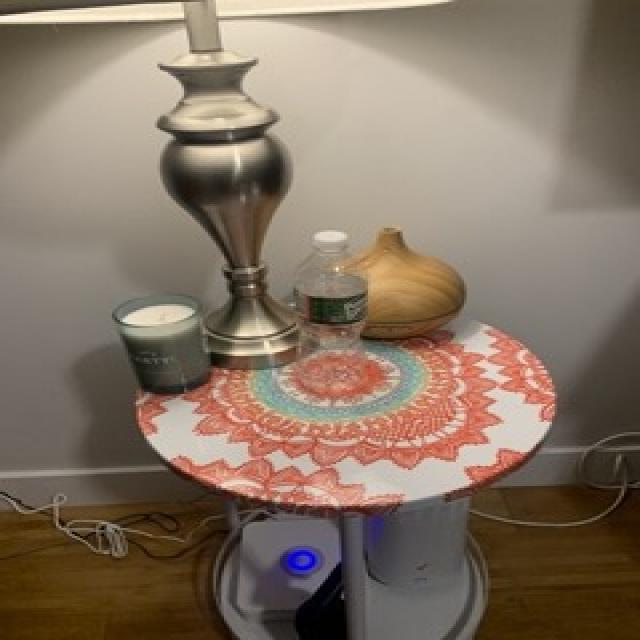water_bottle: (288, 229, 377, 395)
